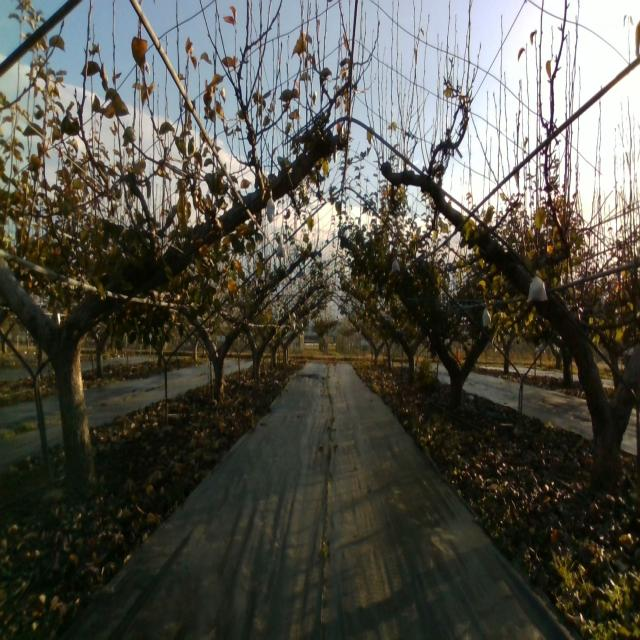pearbags: (528, 270, 548, 301), (266, 190, 276, 223), (276, 238, 287, 258)
